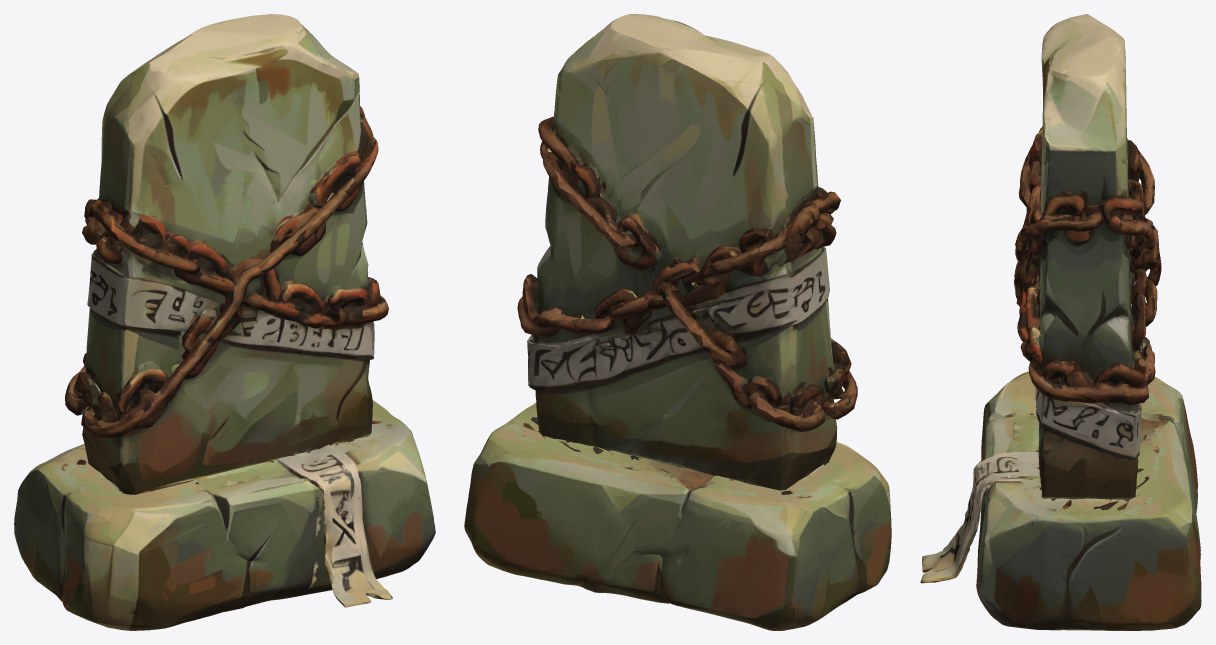
File: seal_stone.glb
3 views of the same model, side by side, from view 1: azimuth 30°, elevation 25°; view 2: azimuth 150°, elevation 25°; view 3: azimuth 270°, elevation 25° (orthographic). The views are drawn at different scales.
Visible parts, largest first — view 1: seal_stone; view 2: seal_stone; view 3: seal_stone.
Boxes of the visible parts, x1,y1,x2,y2 form: seal_stone: [14, 14, 435, 630]; seal_stone: [464, 14, 891, 630]; seal_stone: [920, 14, 1201, 630].
Bounding box in the file's own units: 1.1 × 1.6 × 0.7958.
1 material, 1 textured.
